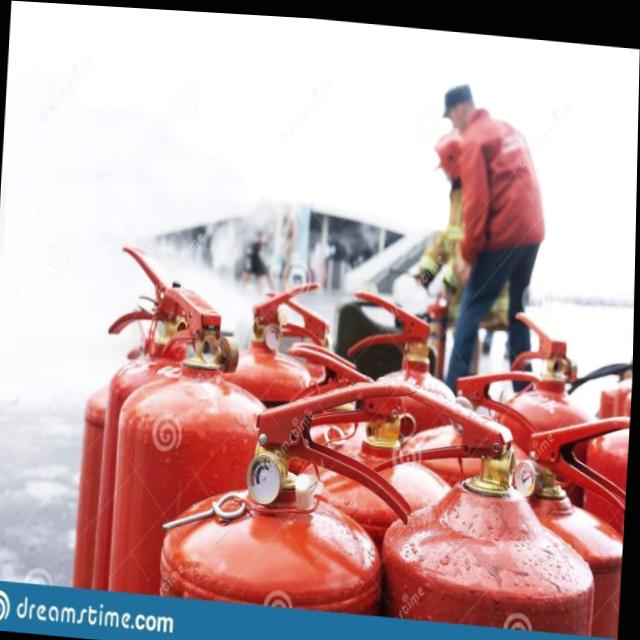FireExtinguisher: (149, 342, 427, 610), (360, 368, 610, 629), (109, 272, 298, 601), (486, 298, 614, 622), (468, 382, 631, 631)
